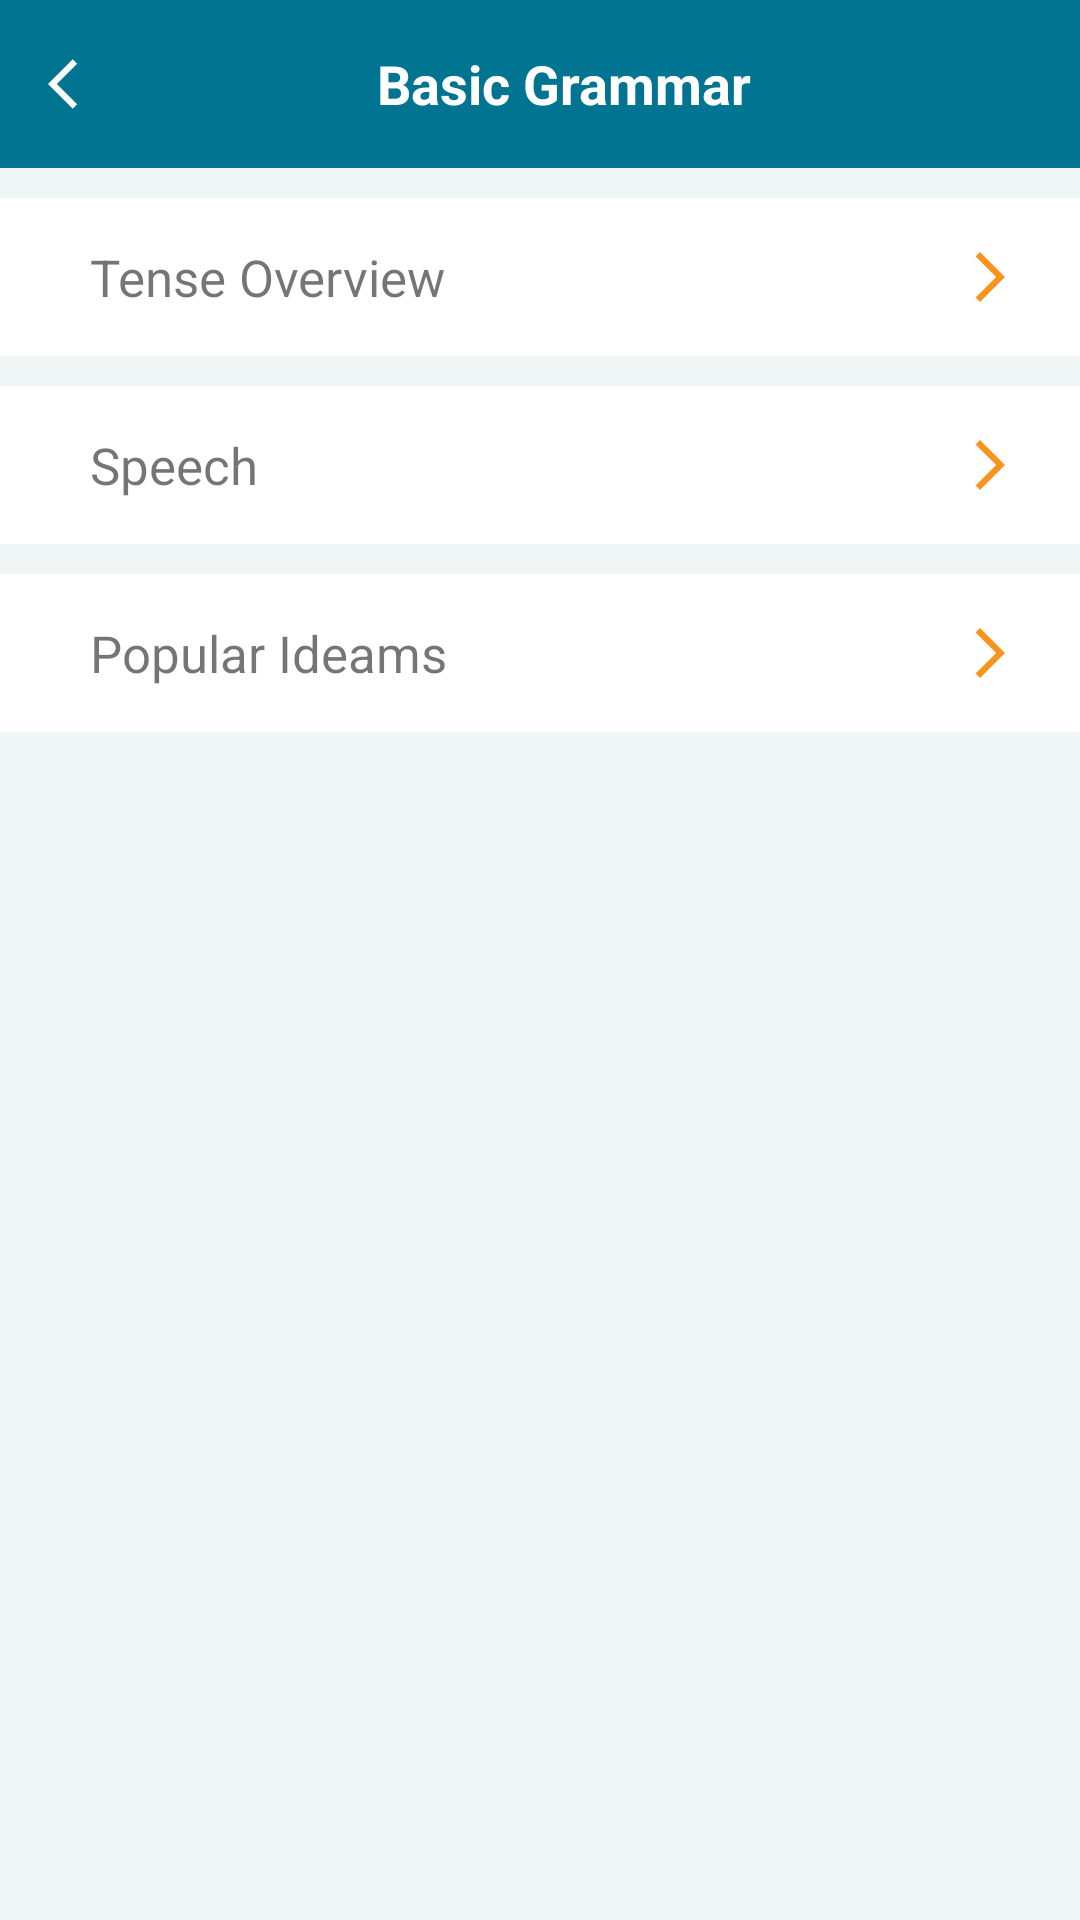

Named icons in this screenshot (1080×1920) and their centers, (x=x, y=y):
arrow back: (x=62, y=84)
arrow forward: (x=990, y=277), (x=990, y=465), (x=990, y=653)
